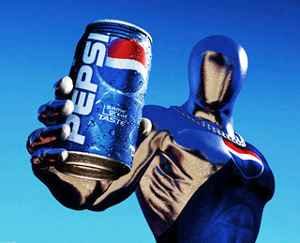pepsi: (97, 37, 148, 93), (222, 135, 263, 179)
